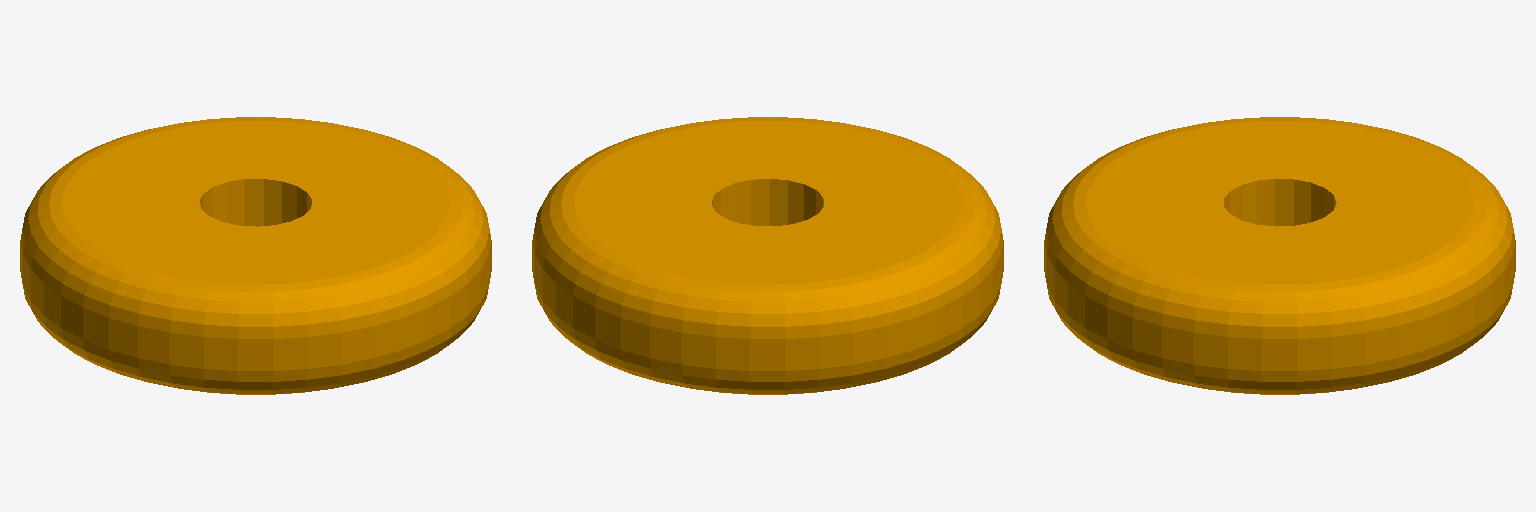
robot.urdf — 00831_socket:
<?xml version="1.0"?>
<robot name="00831_socket">
	<link name="00831_socket">
		<visual>
			<geometry>
				<mesh filename="../mesh/00831/asset_socket.obj"/>
			</geometry>
		</visual>
		<collision>
			<geometry>
				<mesh filename="../mesh/00831/asset_socket.obj"/>
			</geometry>
			<sdf resolution="256"/>
		</collision>
	</link>
</robot>

--- What the picture shows (computed from the rendered views, not written in the file) ---
The picture shows the robot from 3 angles, left to right: view 1: azimuth 30°, elevation 25°; view 2: azimuth 150°, elevation 25°; view 3: azimuth 270°, elevation 25°; orthographic projection.
Model 00831_socket with 1 links and 0 joints (none), rooted at 00831_socket, posed every joint at zero.
Visible links, largest first — view 1: 00831_socket; view 2: 00831_socket; view 3: 00831_socket.
Link boxes in pixels (x1,y1,x2,y2): 00831_socket: (20, 117, 491, 394); 00831_socket: (532, 117, 1003, 394); 00831_socket: (1044, 117, 1515, 394).
Bounding box of the posed robot: 0.0229 × 0.023 × 0.0057 m (x, y, z).
1 mesh visuals loaded from 1 distinct referenced files (1 OBJ).